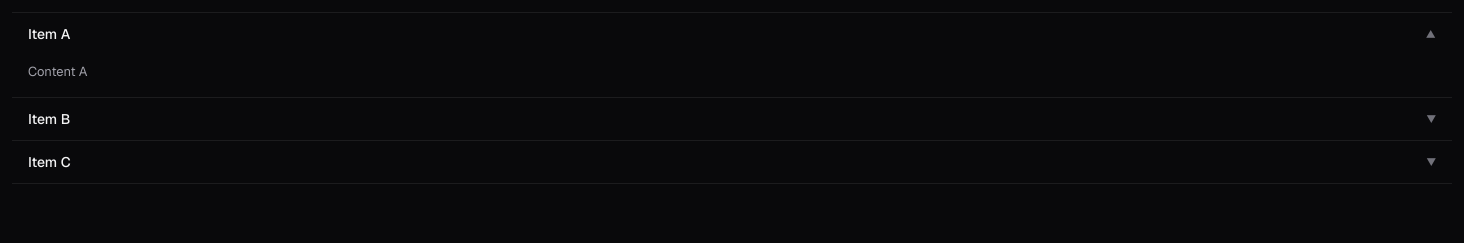
Test: Accordion › multiple mode: opening one item does not close others
Click the button "Item B ▼" at (49, 119), box top-left (12, 98), bottom-right (1452, 140)
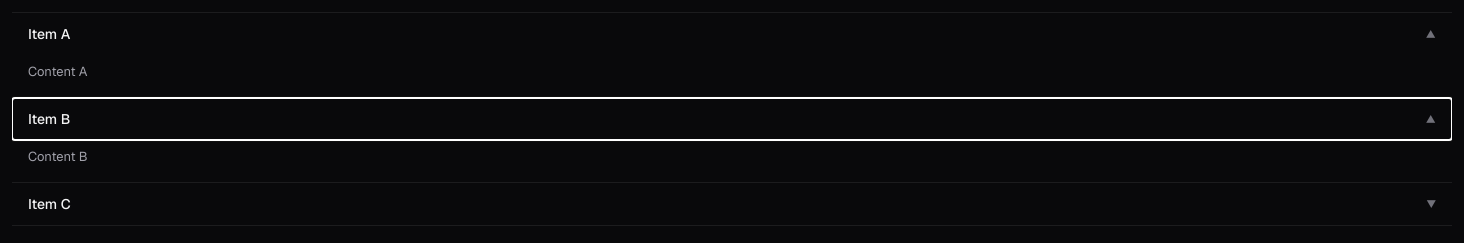
Expected: the button "Item B ▼" is expanded, top-left (12, 98), bottom-right (1452, 140)
